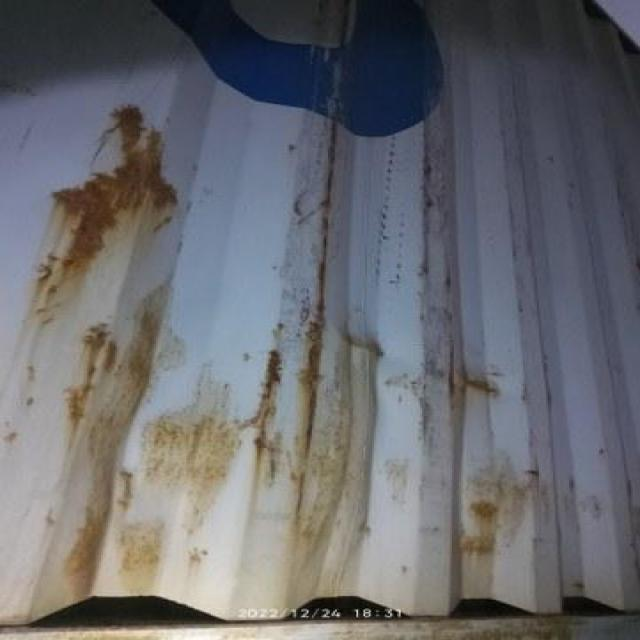rust: (38, 107, 187, 247)
